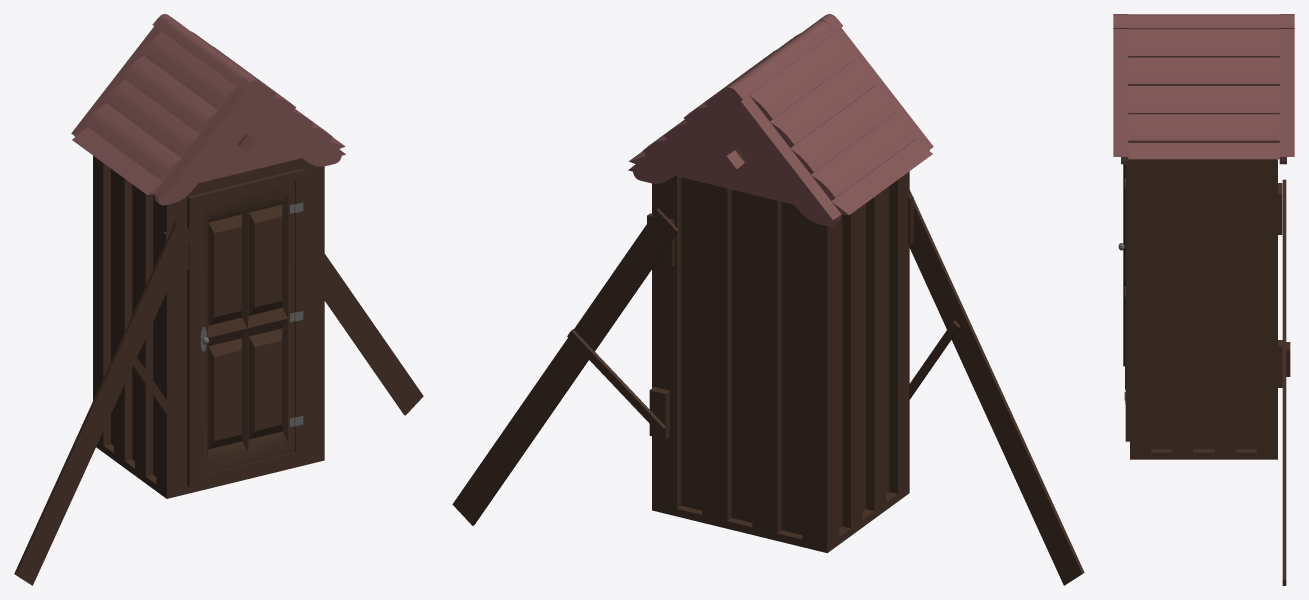
The model's file is Outhouse_Final.fbx.
3 renders of one model, left to right at view 1: azimuth 30°, elevation 25°; view 2: azimuth 150°, elevation 25°; view 3: azimuth 270°, elevation 25°, orthographic. The views are drawn at different scales.
Visible parts, largest first — view 1: outhousebase, Door, roofTop, SupportBeam1, frame1, SupportBeam, side2, frame2, SupportBeam2; view 2: outhousebase, roofTop, SupportBeam, SupportBeam1, frame2, side1, frame1, SupportBeam3, SupportBlock3, SupportBeam2; view 3: outhousebase, roofTop, frame1, frame2, SupportBeam, SupportBeam1, SupportBlock2.
Part boxes in pixels (x1,y1,x2,y2): outhousebase: (93, 133, 324, 498); Door: (200, 182, 294, 475); roofTop: (72, 20, 345, 194); SupportBeam1: (14, 221, 193, 585); frame1: (154, 74, 345, 205); SupportBeam: (324, 254, 423, 415); side2: (199, 117, 301, 182); frame2: (71, 14, 236, 136); SupportBeam2: (133, 357, 186, 434); outhousebase: (652, 148, 909, 553); roofTop: (629, 20, 932, 215); SupportBeam: (452, 208, 678, 525); SupportBeam1: (909, 190, 1084, 585); frame2: (628, 81, 841, 226); side1: (675, 128, 793, 204); frame1: (750, 14, 933, 150); SupportBeam3: (567, 329, 665, 434); SupportBlock3: (649, 387, 669, 439); SupportBeam2: (909, 320, 960, 399); outhousebase: (1125, 159, 1277, 459); roofTop: (1128, 14, 1279, 159); frame1: (1113, 14, 1128, 164); frame2: (1279, 14, 1294, 164); SupportBeam: (1282, 179, 1286, 585); SupportBeam1: (1123, 164, 1125, 366); SupportBlock2: (1277, 183, 1282, 234).
Size of the model in its own units: 373 by 334 by 120.
